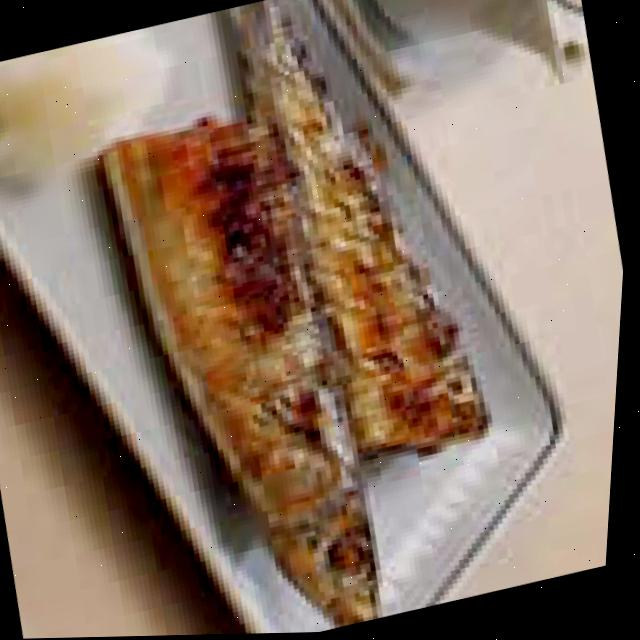熟制海鲜: (72, 0, 548, 638)
